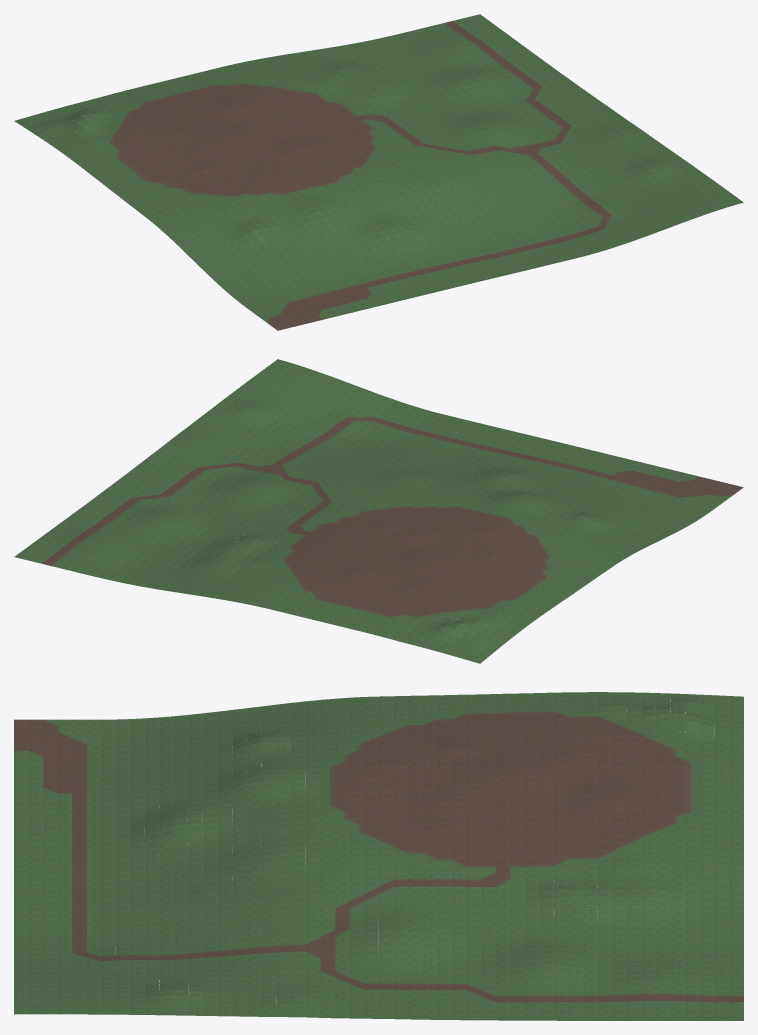
Rendered from oliver-zon.glb.
The picture shows the model from 3 angles, top to bottom: view 1: azimuth 30°, elevation 25°; view 2: azimuth 150°, elevation 25°; view 3: azimuth 270°, elevation 25°; orthographic projection. The views are drawn at different scales.
Parts seen in each view (by area): view 1: Plane; view 2: Plane; view 3: Plane.
Boxes of the visible parts, x1,y1,x2,y2 form: Plane: (14, 14, 743, 330); Plane: (14, 359, 743, 663); Plane: (14, 692, 743, 1020).
Size of the model in its own units: 100 by 5.74 by 98.04.
1 material, 1 textured.
